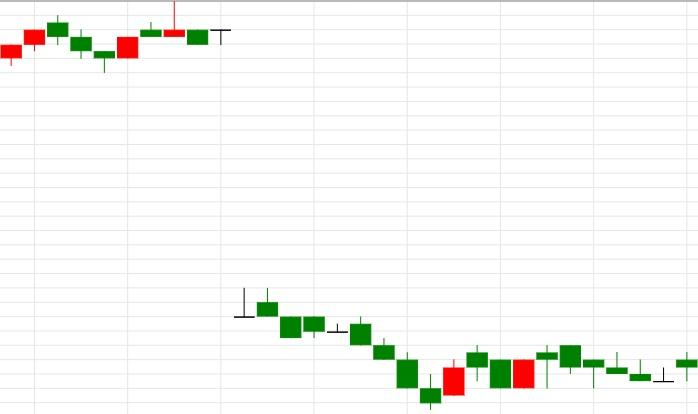three_black_crows_fall: (0, 14, 116, 72)
